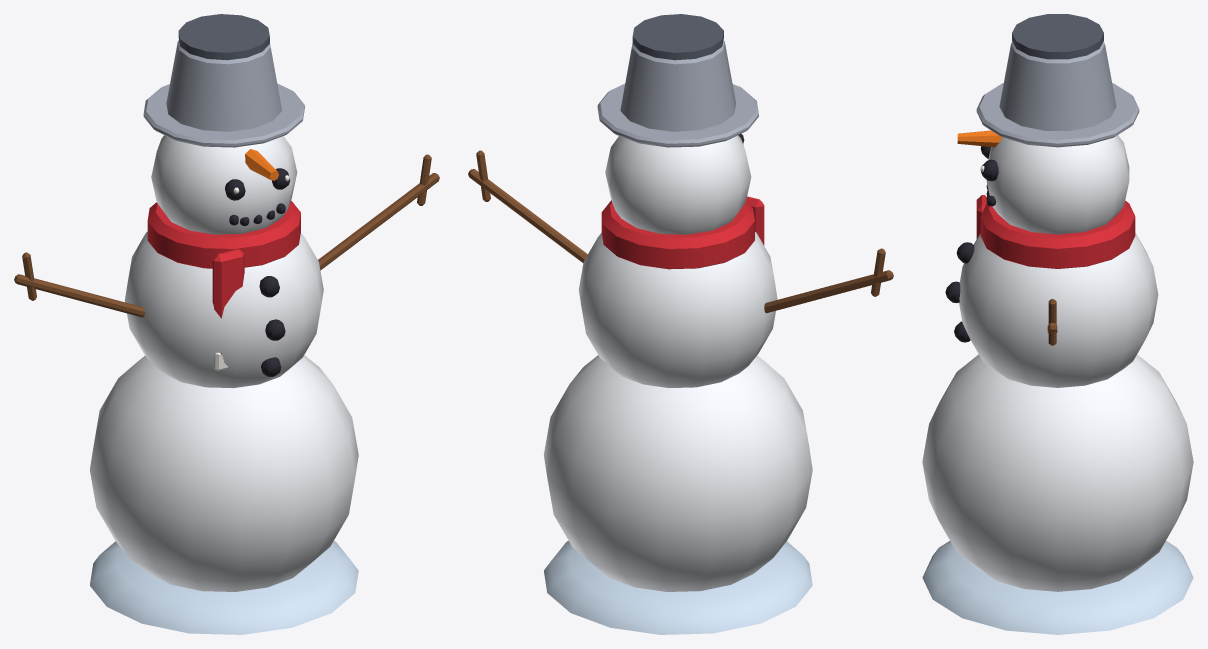
File: prop_snowman_classic.glb
The picture shows the model from 3 angles, left to right: view 1: azimuth 30°, elevation 25°; view 2: azimuth 150°, elevation 25°; view 3: azimuth 270°, elevation 25°; orthographic projection.
Visible parts, largest first — view 1: snowman_classic; view 2: snowman_classic; view 3: snowman_classic.
Part boxes in pixels (<box>): snowman_classic: <box>14,14,439,634</box>; snowman_classic: <box>468,14,893,634</box>; snowman_classic: <box>922,14,1193,634</box>.
Size of the model in its own units: 1.8 by 2.25 by 1.
1 material, 1 textured.
